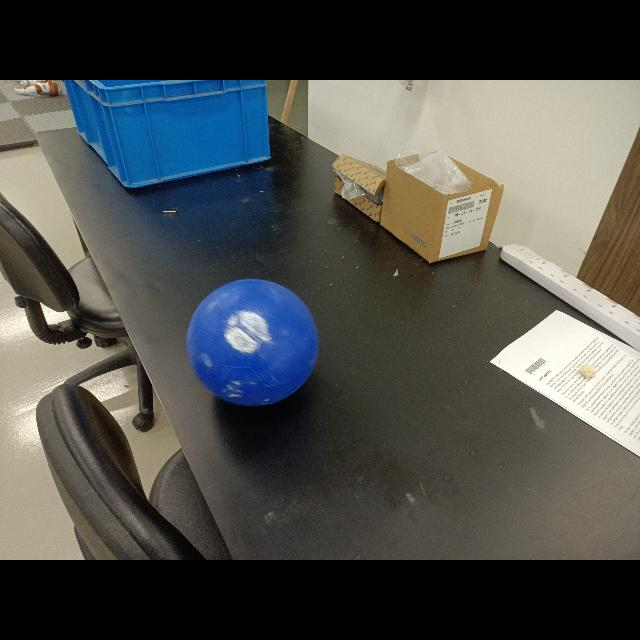B: (185, 279, 318, 405)
